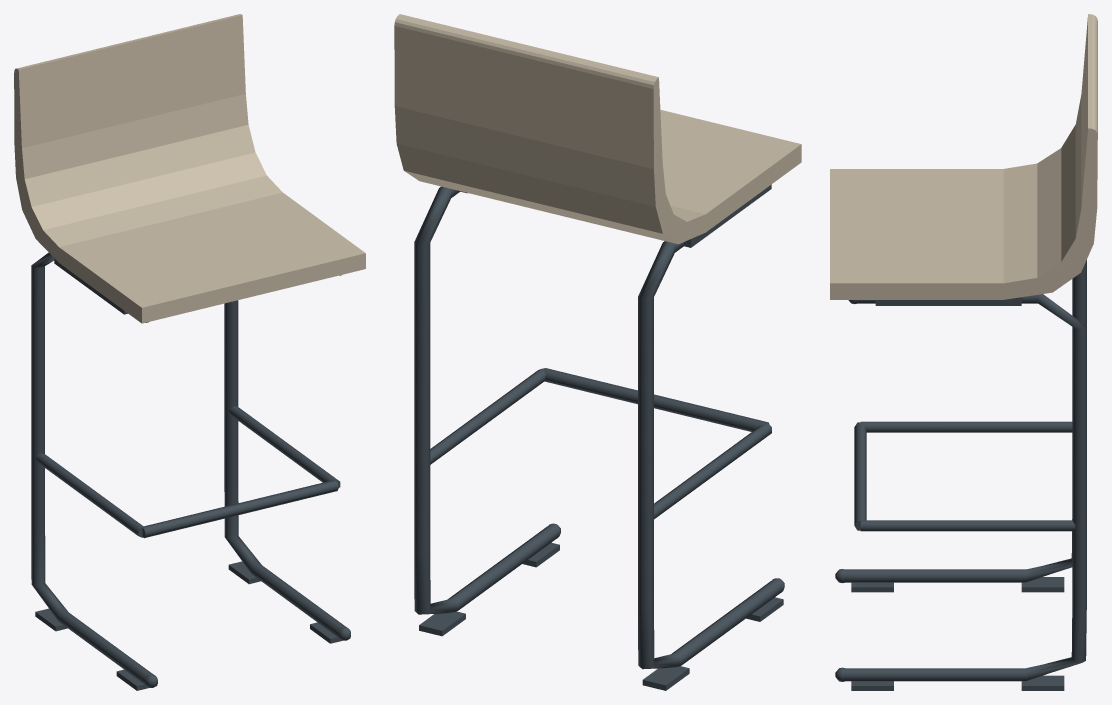
The model's file is barStool-2.glb.
3 views of the same model, side by side, from view 1: azimuth 30°, elevation 25°; view 2: azimuth 150°, elevation 25°; view 3: azimuth 270°, elevation 25° (orthographic). The views are drawn at different scales.
Visible parts, largest first — view 1: barStool:2:editor; view 2: barStool:2:editor; view 3: barStool:2:editor.
Part boxes in pixels (<box>): barStool:2:editor: <box>14,14,365,690</box>; barStool:2:editor: <box>394,14,801,690</box>; barStool:2:editor: <box>830,14,1097,690</box>.
Size of the model in its own units: 0.445 by 1.02 by 0.44.
